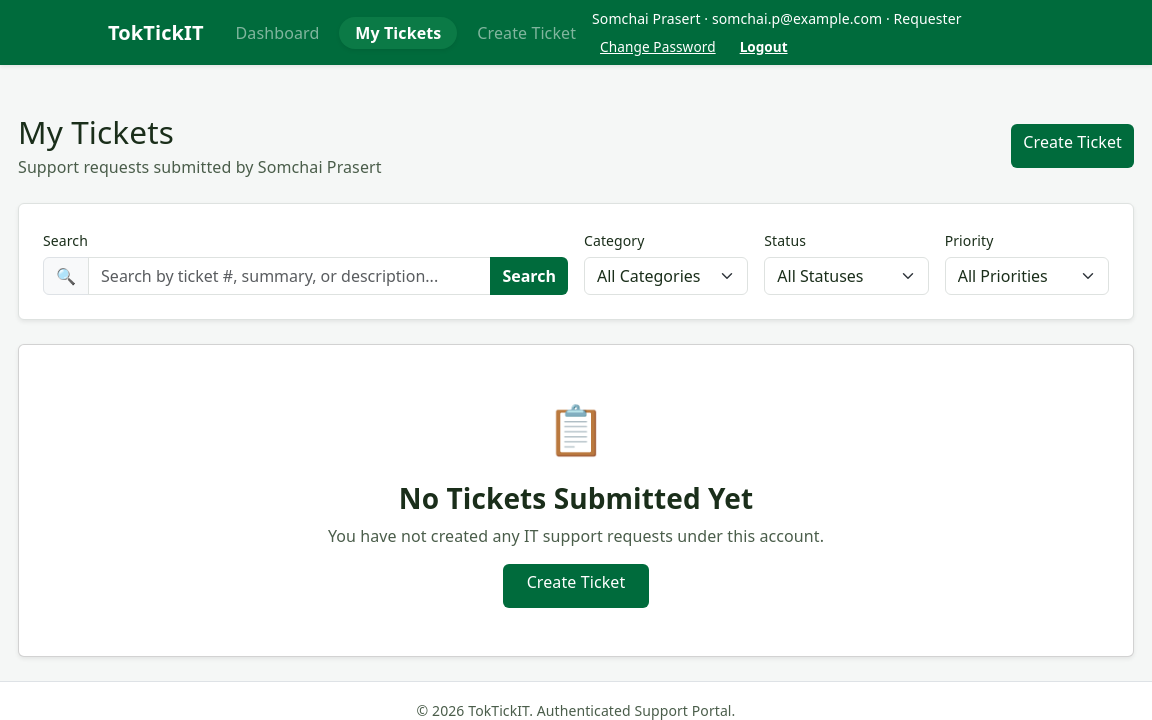
Test: My Tickets screen › distinguishes empty requester data from filtered no-results
This screenshot has width=1152, height=720.
Expected: the heading "No Tickets Submitted Yet" is shown, [399,479,753,517]
In the field labelled "Search": (290, 276) [88,257,491,295], type "missing"
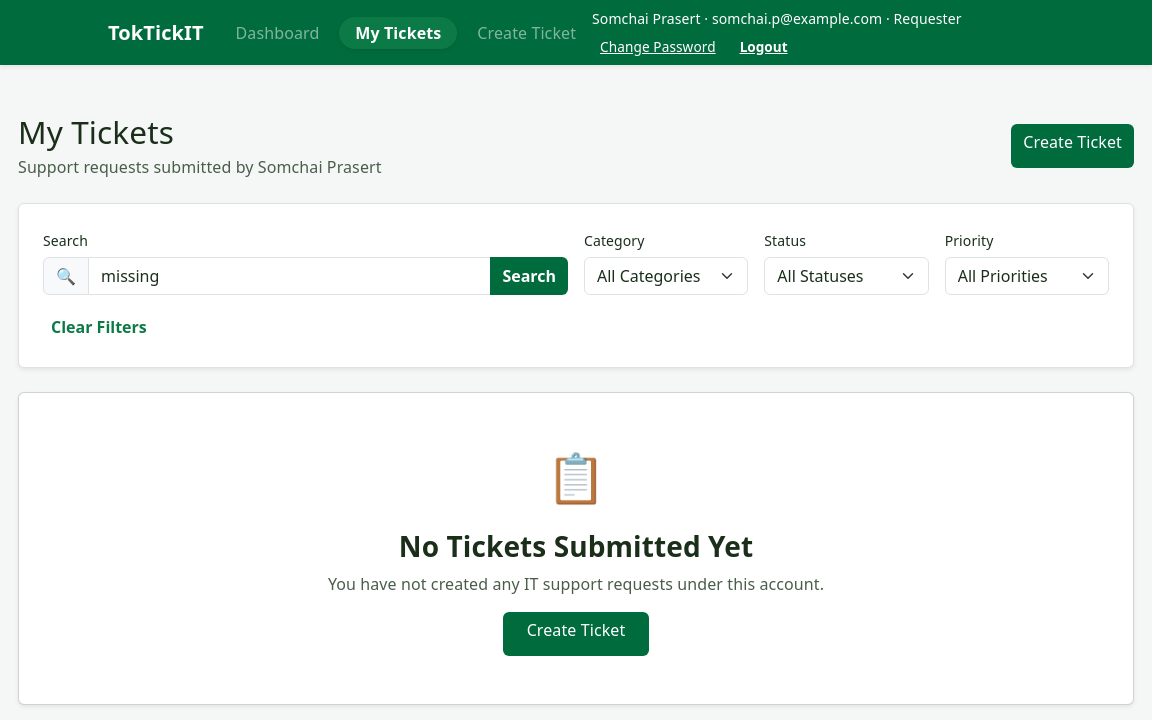
Submit the form, box [35,212,1117,295]
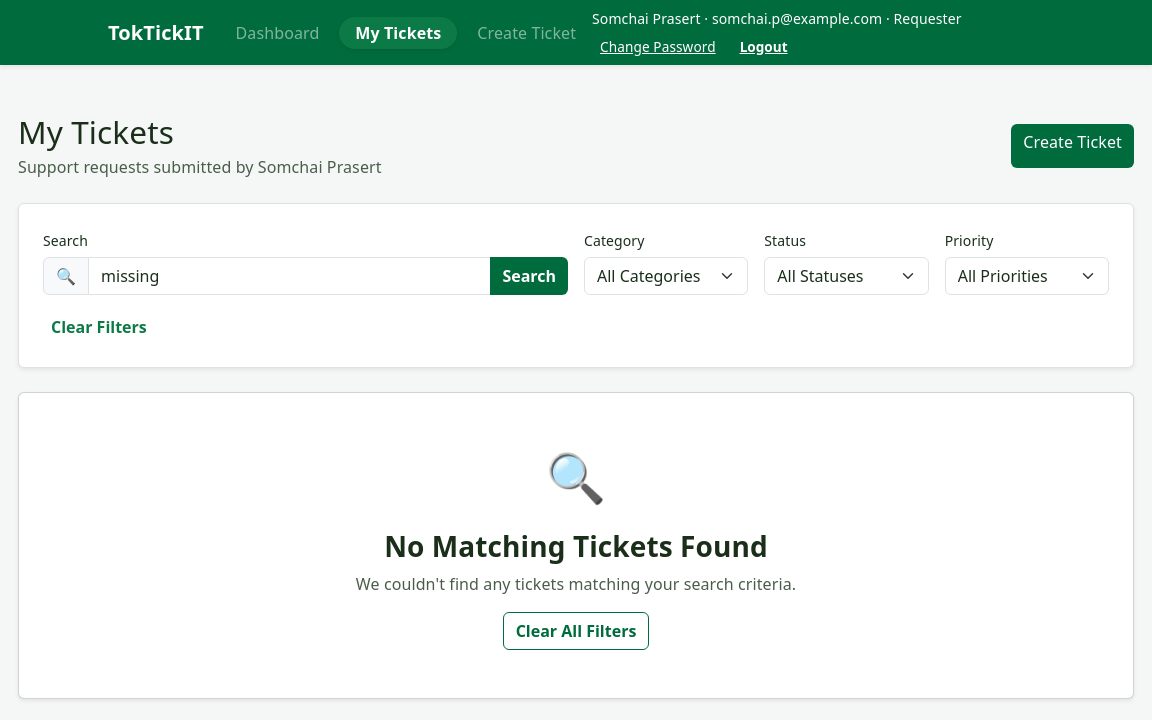
Expected: the heading "No Matching Tickets Found" is shown, [384,527,768,565]
Expected: the button "Clear All Filters" is shown, [503,612,649,650]
